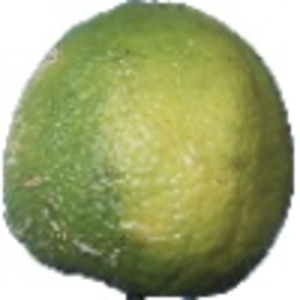limão: (2, 1, 294, 300)
